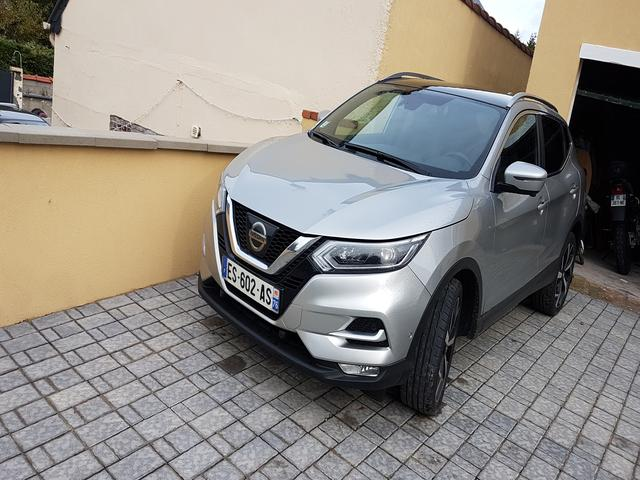Quashquai: (205, 249, 290, 323)
